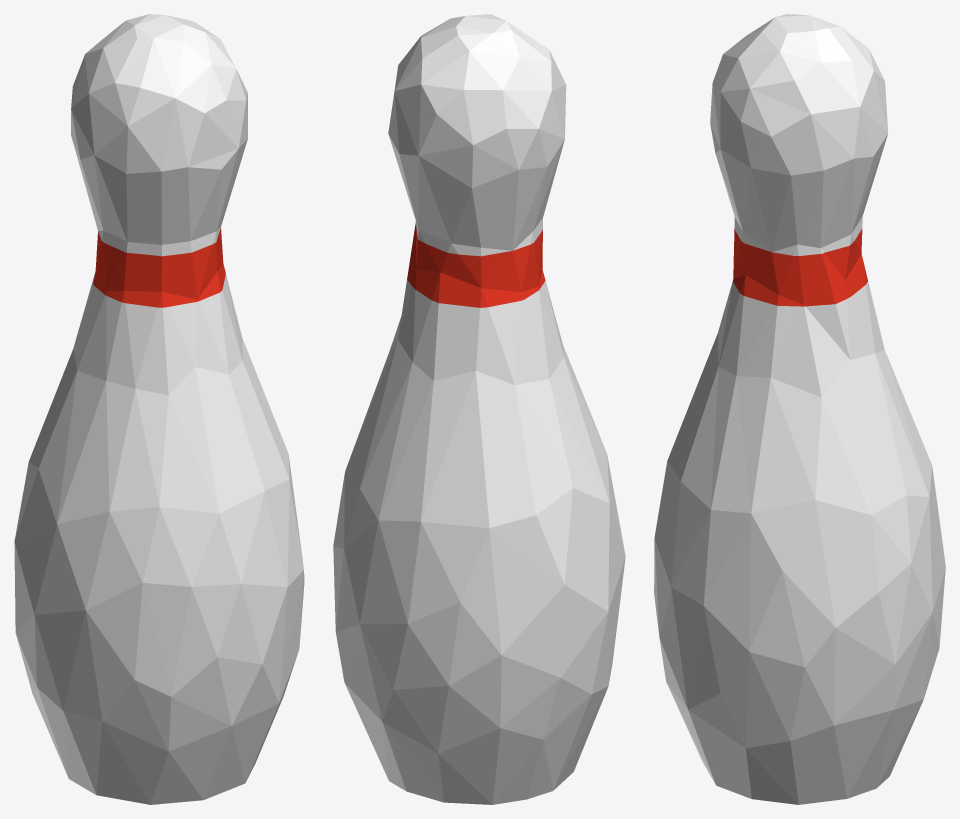
Rendered from Kegl.fbx.
3 views of the same model, side by side, from view 1: azimuth 30°, elevation 25°; view 2: azimuth 150°, elevation 25°; view 3: azimuth 270°, elevation 25° (orthographic).
Parts seen in each view (by area): view 1: Kegl; view 2: Kegl; view 3: Kegl.
Part boxes in pixels (x1=…): Kegl: x1=14, y1=14, x2=304, y2=804; Kegl: x1=333, y1=14, x2=625, y2=804; Kegl: x1=654, y1=14, x2=945, y2=804.
Size of the model in its own units: 8.03 by 22.37 by 7.99.
Materials: 1 (1 with a texture image).
